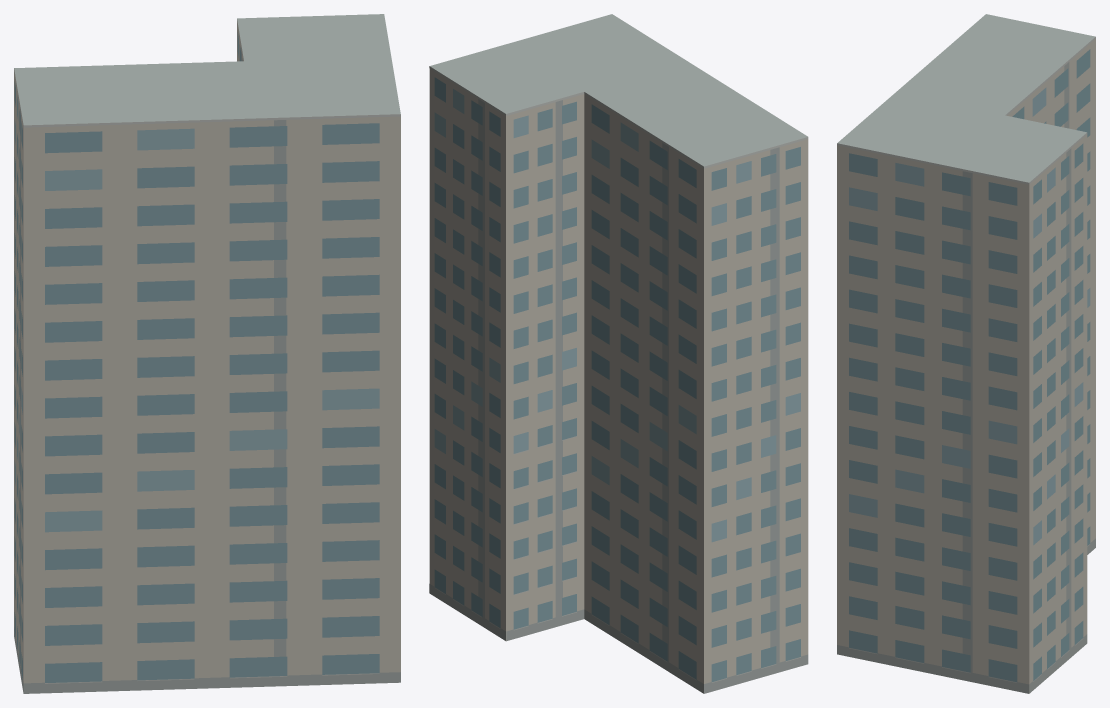
Rendered from residential-de7758fe-868b-4b41-bc8f-7f061f41f221.glb.
3 views of the same model, side by side, from view 1: azimuth 30°, elevation 25°; view 2: azimuth 150°, elevation 25°; view 3: azimuth 270°, elevation 25° (orthographic). The views are drawn at different scales.
Parts seen in each view (by area): view 1: residential-de7758fe-868b-4b41-bc8f-7f061f41f221.tmp; view 2: residential-de7758fe-868b-4b41-bc8f-7f061f41f221.tmp; view 3: residential-de7758fe-868b-4b41-bc8f-7f061f41f221.tmp.
Boxes of the visible parts, <box> form: residential-de7758fe-868b-4b41-bc8f-7f061f41f221.tmp: <box>14,14,400,693</box>; residential-de7758fe-868b-4b41-bc8f-7f061f41f221.tmp: <box>429,14,808,693</box>; residential-de7758fe-868b-4b41-bc8f-7f061f41f221.tmp: <box>837,14,1095,693</box>.
Bounding box in the file's own units: 42.48 × 60 × 27.53.
